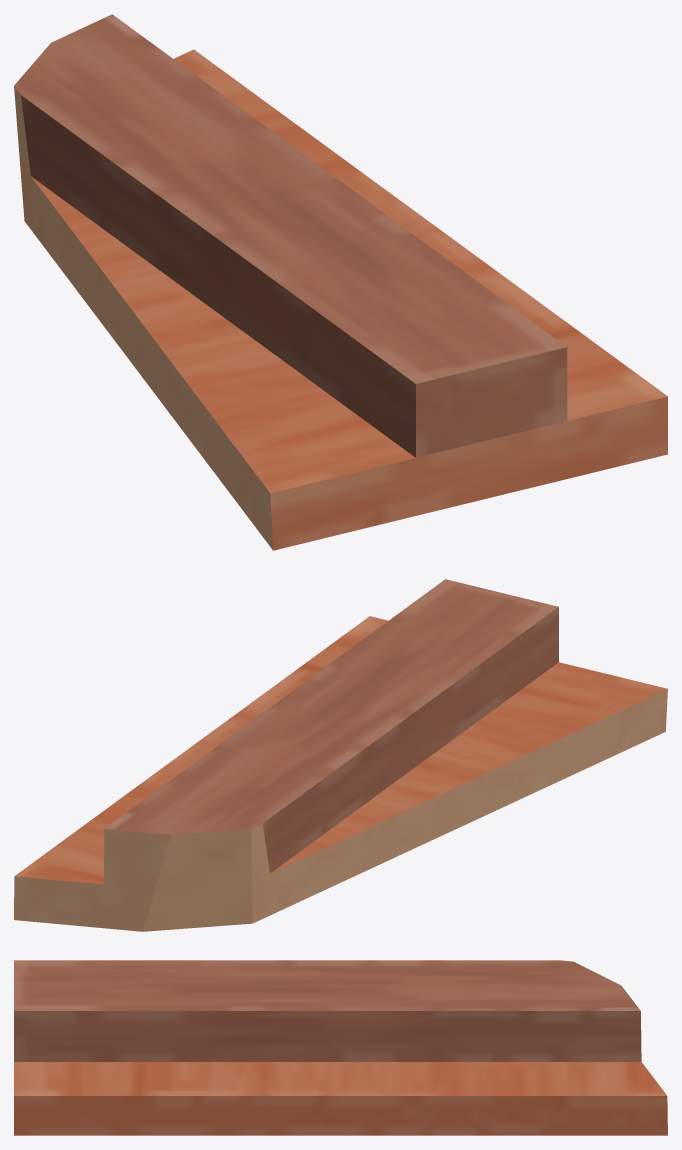
Rendered from bolts_s05.fbx.
3 renders of one model, top to bottom at view 1: azimuth 30°, elevation 25°; view 2: azimuth 150°, elevation 25°; view 3: azimuth 270°, elevation 25°, orthographic. The views are drawn at different scales.
Visible parts, largest first — view 1: bolts_s05; view 2: bolts_s05; view 3: bolts_s05.
Part boxes in pixels (x1=…): bolts_s05: x1=14, y1=14, x2=667, y2=550; bolts_s05: x1=14, y1=579, x2=667, y2=931; bolts_s05: x1=14, y1=960, x2=667, y2=1135.
Bounding box in the file's own units: 1.58 × 0.5 × 3.26.
